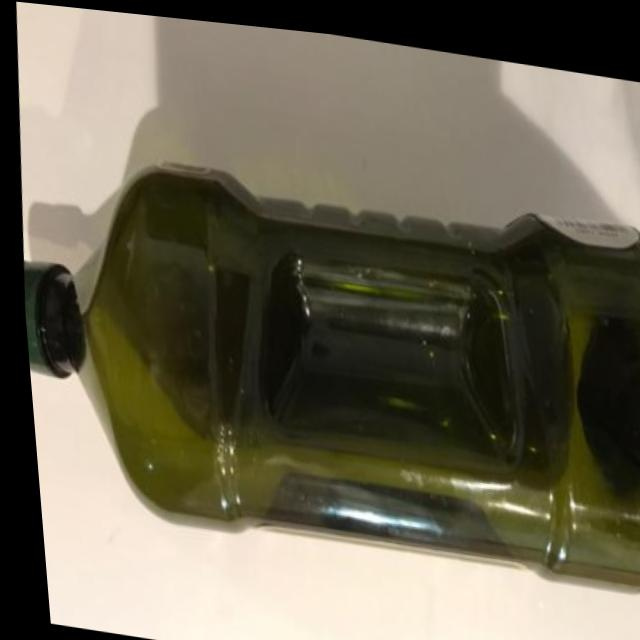plastic: (6, 96, 640, 640)
